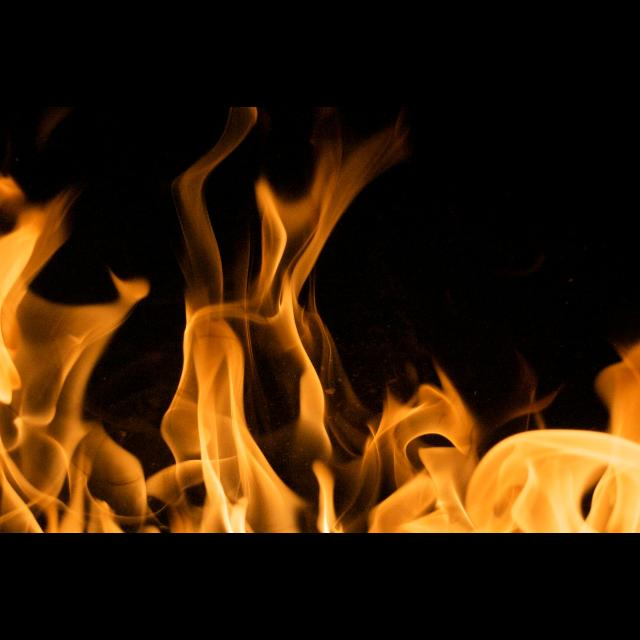fire: (0, 139, 640, 533)
